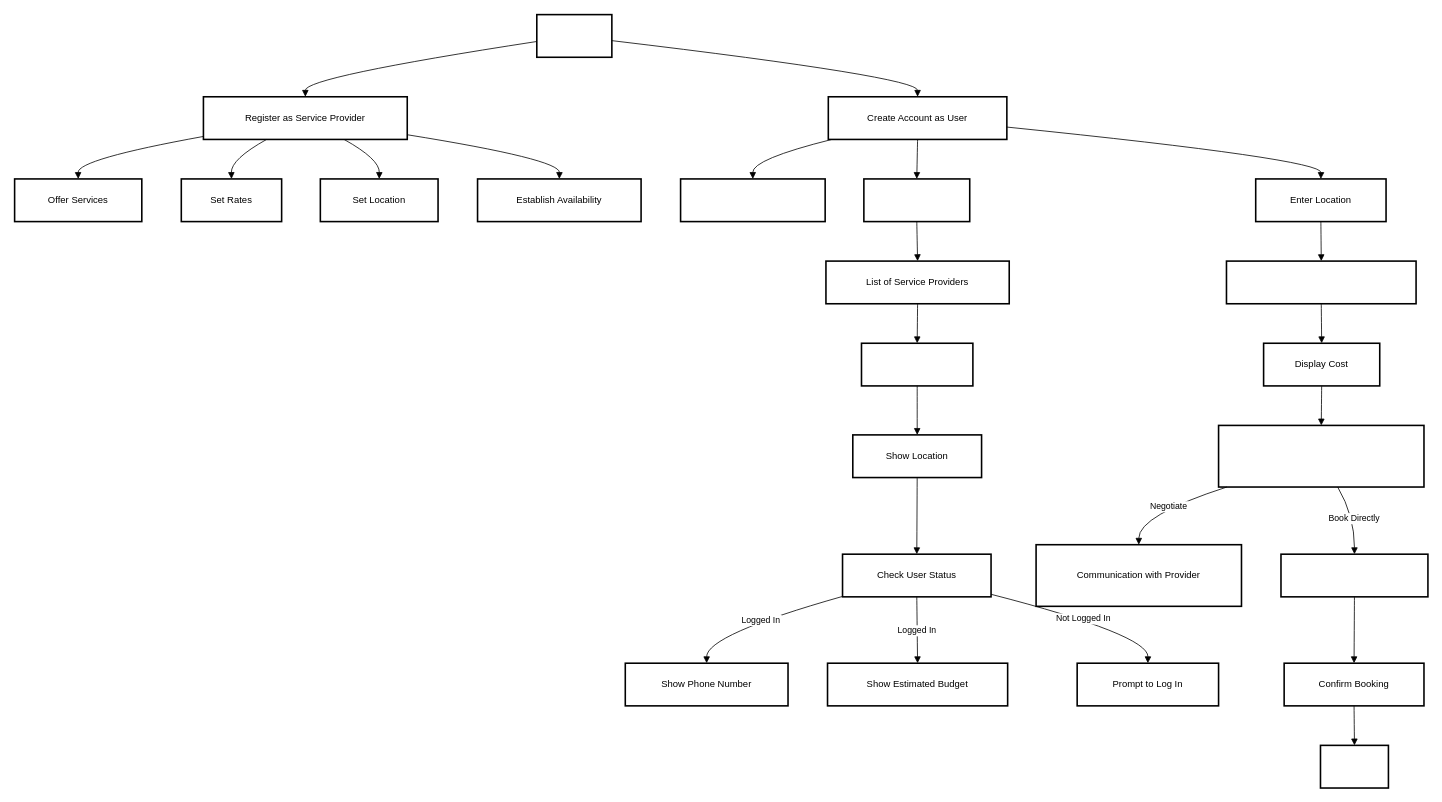
Some shapes in this 1442 by 802 pixel diagram are drawn without their labels. The shapes that lost their labels are listed below. From the top down, each one's centre as x and y in pixels, then its label:
At point 574,35: "Start".
At point 752,200: "Service Selection".
At point 916,200: "Quickbook".
At point 1320,282: "Calculate Estimated Cost".
At point 916,364: "Show Rates".
At point 1320,455: "User Negotiation or Direct Booking".
At point 1354,575: "Match Availability".
At point 1354,766: "End".
